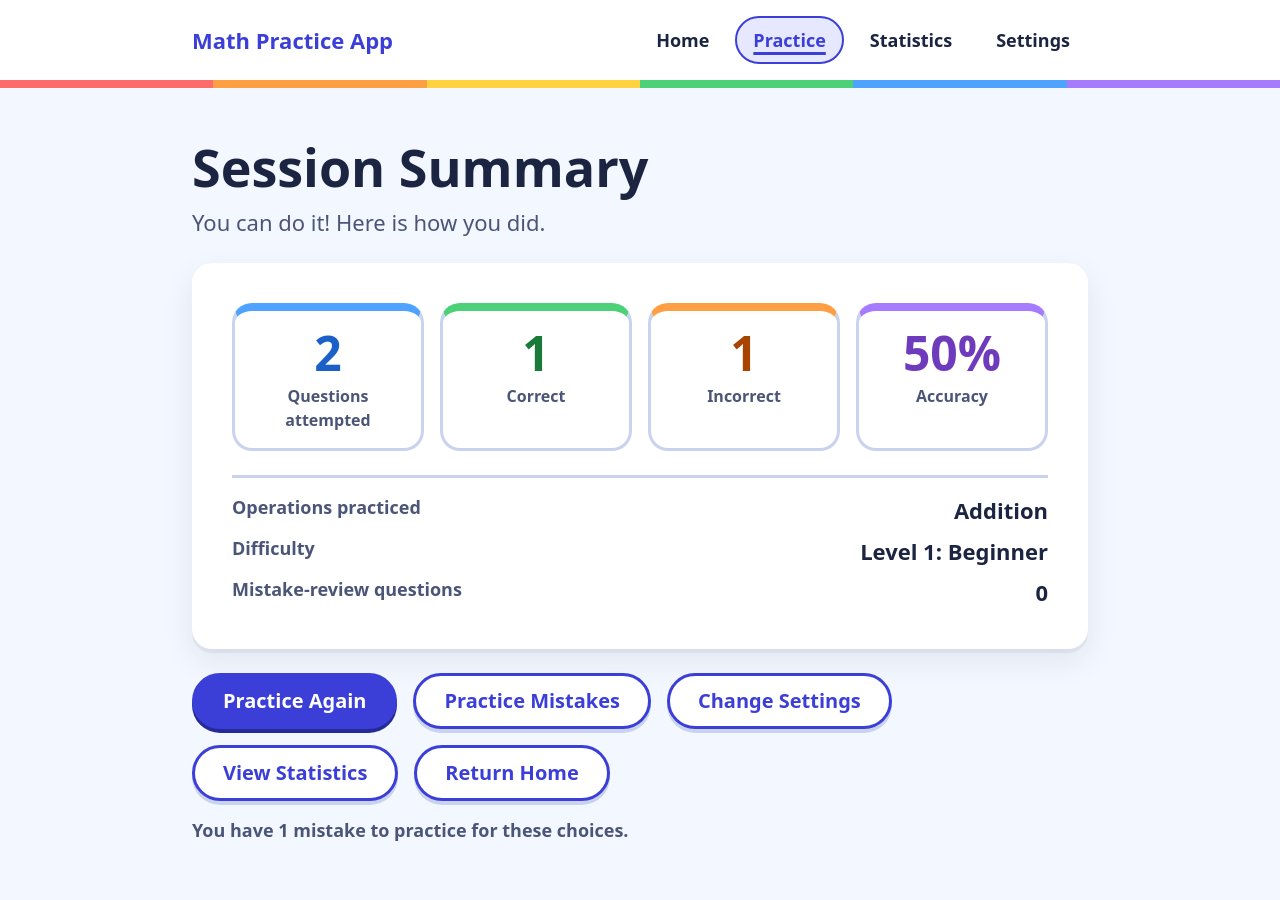
Test: SessionSummaryPage › actions › Practice Again › repeats continuous practice as continuous practice
Click the button "Practice Again". click: (295, 701)
box: [192,673,398,729]
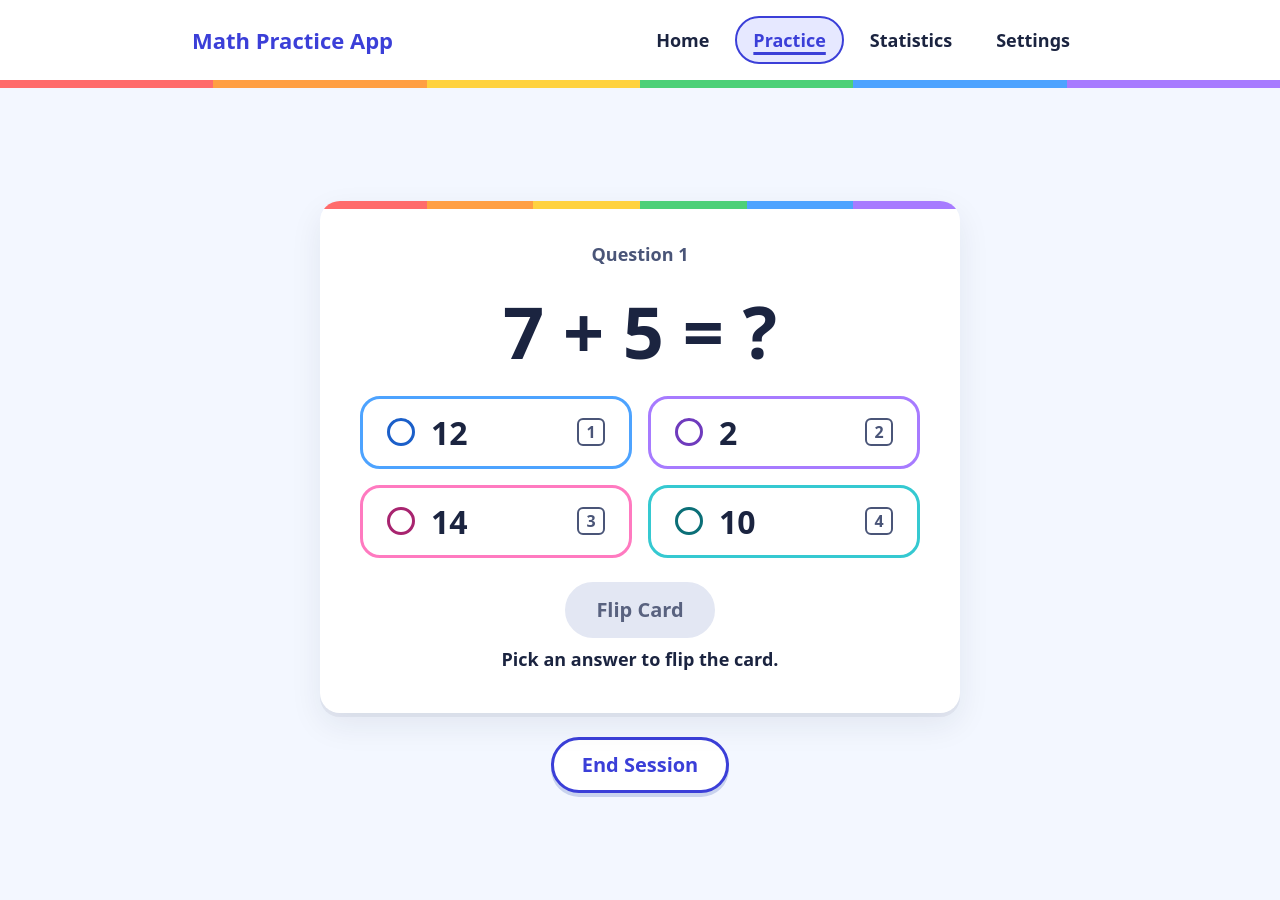
Result: the text "Question 1" is shown at [592,241,688,268]
Result: the button "End Session" is shown at [551,737,729,793]
